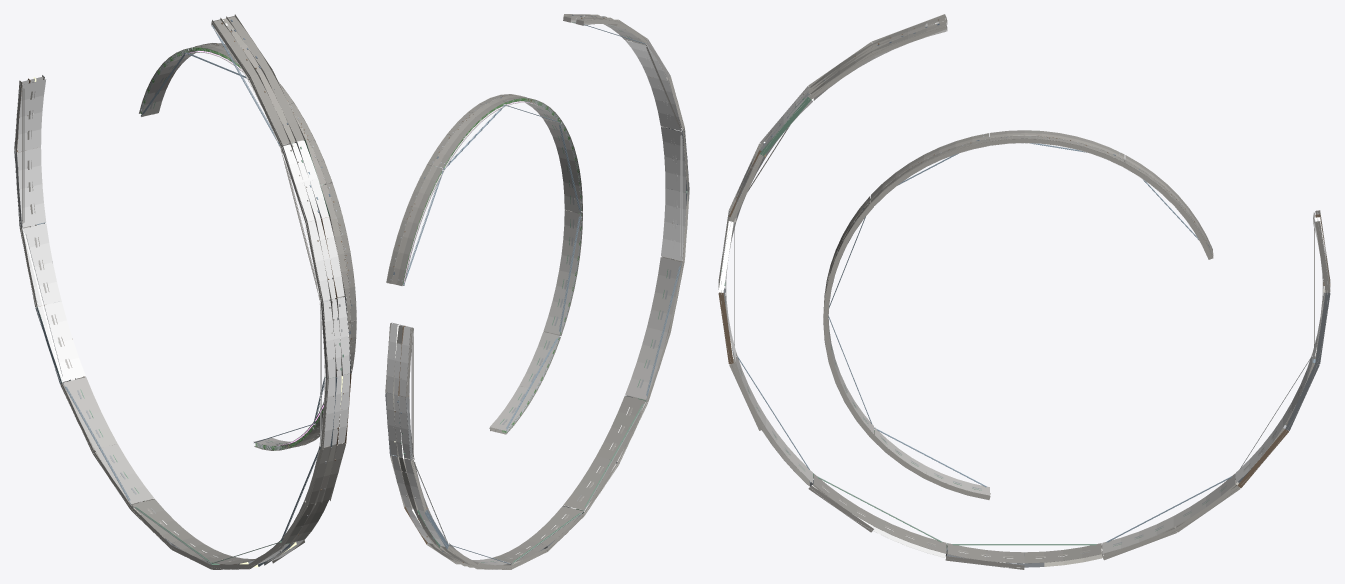
The model's file is xuanshu_interior_C48.glb.
3 views of the same model, side by side, from view 1: azimuth 30°, elevation 25°; view 2: azimuth 150°, elevation 25°; view 3: azimuth 270°, elevation 25° (orthographic). The views are drawn at different scales.
Visible parts, largest first — view 1: UNIT-HAB-011, UNIT-RIT-003, UNIT-RIT-001, UNIT-AGR-002, UNIT-AGR-001; view 2: UNIT-RIT-001, UNIT-RIT-003, UNIT-AGR-002, UNIT-HAB-011, UNIT-AGR-001; view 3: UNIT-RIT-001, UNIT-RIT-003, UNIT-HAB-011, UNIT-AGR-001, UNIT-AGR-002.
Boxes of the visible parts, x1,y1,x2,y2 form: UNIT-HAB-011: (211,14,351,449); UNIT-RIT-003: (14,75,154,509); UNIT-RIT-001: (131,442,345,569); UNIT-AGR-002: (253,182,356,450); UNIT-AGR-001: (139,43,332,185); UNIT-RIT-001: (492,256,684,569); UNIT-RIT-003: (385,322,511,569); UNIT-AGR-002: (489,119,582,434); UNIT-HAB-011: (563,14,689,261); UNIT-AGR-001: (386,94,560,285); UNIT-RIT-001: (729,352,1102,569); UNIT-RIT-003: (1101,210,1330,560); UNIT-HAB-011: (718,14,947,363); UNIT-AGR-001: (870,130,1213,259); UNIT-AGR-002: (823,196,990,499).
Bounding box in the file's own units: 61.31 × 399 × 406.
